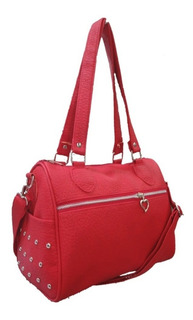cartera: (10, 15, 185, 304)
